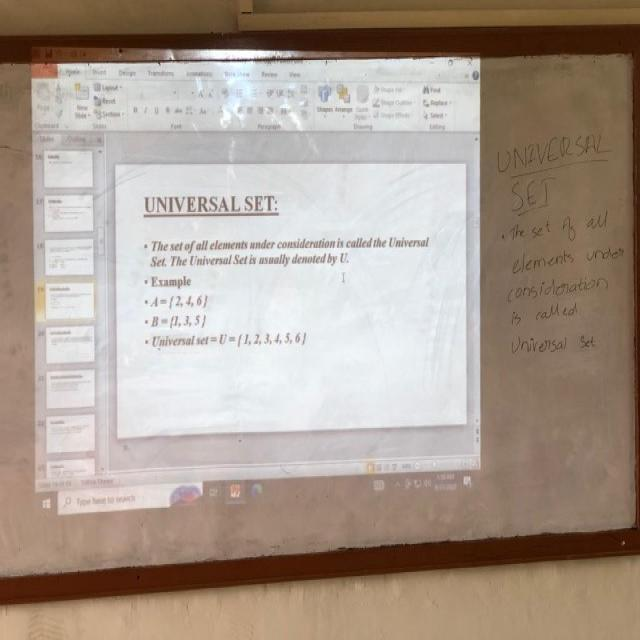Slide: (30, 48, 484, 527)
White-board: (0, 34, 640, 591)
